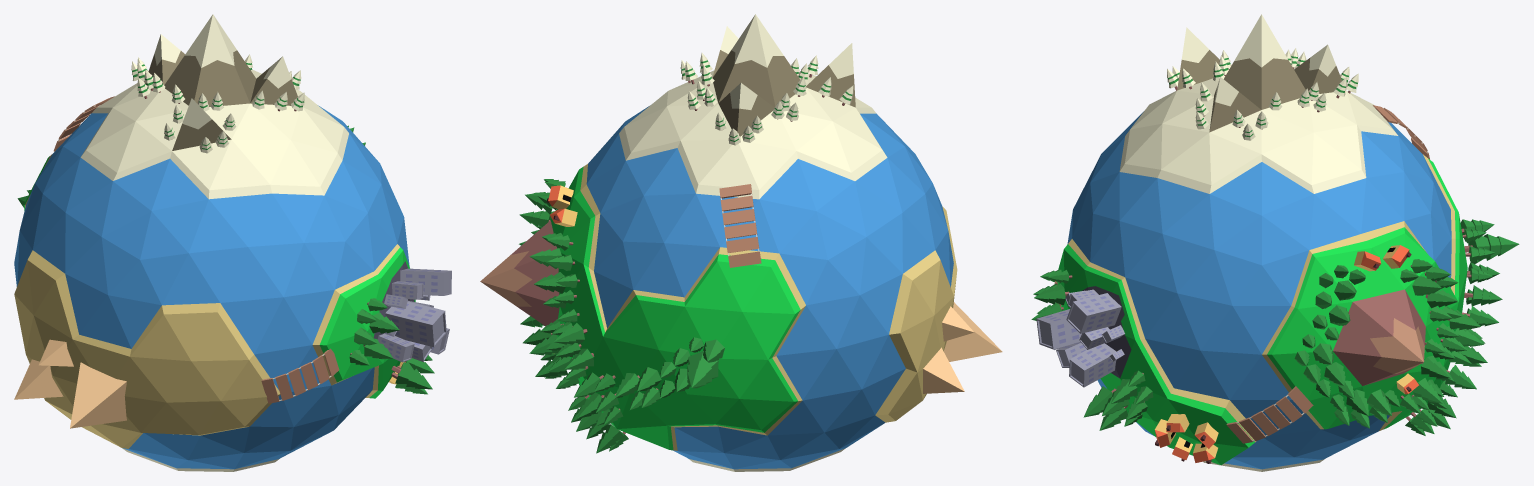
3 renders of one model, left to right at view 1: azimuth 30°, elevation 25°; view 2: azimuth 150°, elevation 25°; view 3: azimuth 270°, elevation 25°, orthographic.
Visible parts, largest first — view 1: Planet, Cone.003, Building, Cube.002_Bridge_0, Cone.001, Building.004, Cone.002, Building.007, Cylinder.007, Building.005, Cube_Bridge_0; view 2: Planet, Cube_Bridge_0, Cone.003, Cone.001, Cone.236, Cone.002; view 3: Planet, Cube.001_Bridge_0, Building.004, Building.001, Building, Cone.236.
Part boxes in pixels (bbox=[...]): Planet: bbox=[14, 14, 415, 471]; Cone.003: bbox=[70, 362, 126, 428]; Building: bbox=[385, 301, 446, 347]; Cube.002_Bridge_0: bbox=[261, 348, 339, 403]; Cone.001: bbox=[14, 359, 63, 399]; Building.004: bbox=[400, 268, 451, 295]; Cone.002: bbox=[39, 339, 73, 366]; Building.007: bbox=[377, 333, 414, 362]; Cylinder.007: bbox=[391, 361, 432, 389]; Building.005: bbox=[392, 281, 423, 299]; Cube_Bridge_0: bbox=[53, 96, 114, 151]; Planet: bbox=[480, 14, 957, 471]; Cube_Bridge_0: bbox=[719, 184, 761, 267]; Cone.003: bbox=[943, 302, 1002, 361]; Cone.001: bbox=[923, 347, 964, 393]; Cone.236: bbox=[687, 351, 718, 388]; Cone.002: bbox=[942, 306, 974, 341]; Planet: bbox=[1057, 14, 1467, 471]; Cube.001_Bridge_0: bbox=[1226, 386, 1313, 443]; Building.004: bbox=[1066, 293, 1121, 333]; Building.001: bbox=[1069, 343, 1116, 387]; Building: bbox=[1036, 309, 1081, 349]; Cone.236: bbox=[1464, 234, 1519, 263].
Size of the model in its own units: 235 by 245 by 246.
